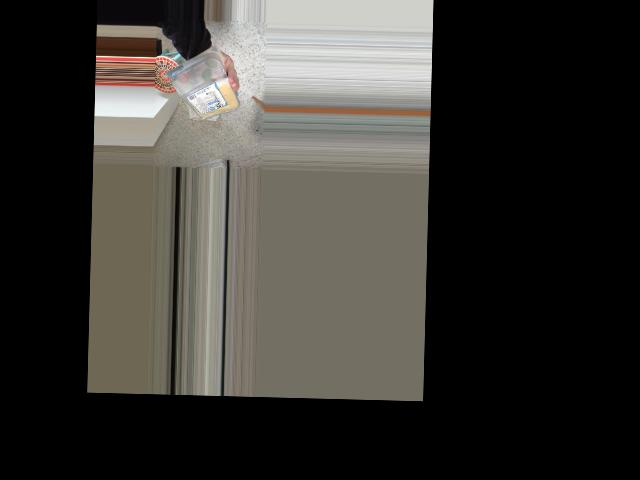cheese: (164, 49, 231, 126)
